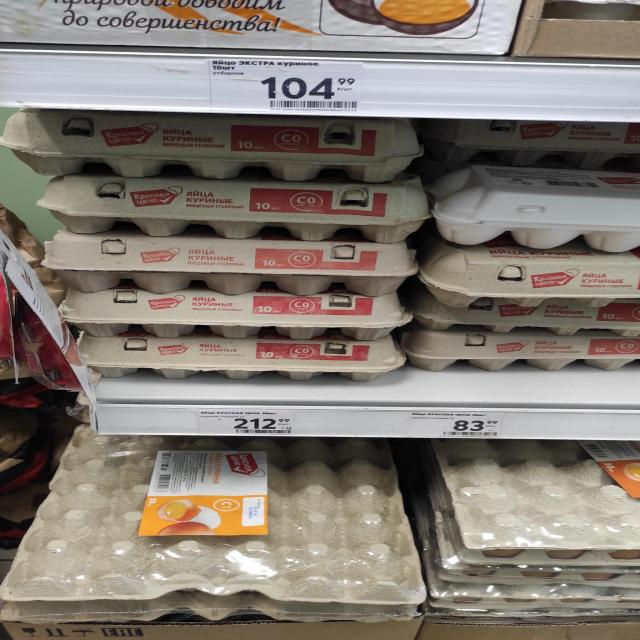organic waste: (0, 108, 427, 180), (36, 179, 430, 240), (41, 238, 417, 292), (438, 168, 640, 254), (56, 292, 414, 340), (75, 337, 407, 379), (408, 331, 640, 371), (411, 295, 640, 333)
